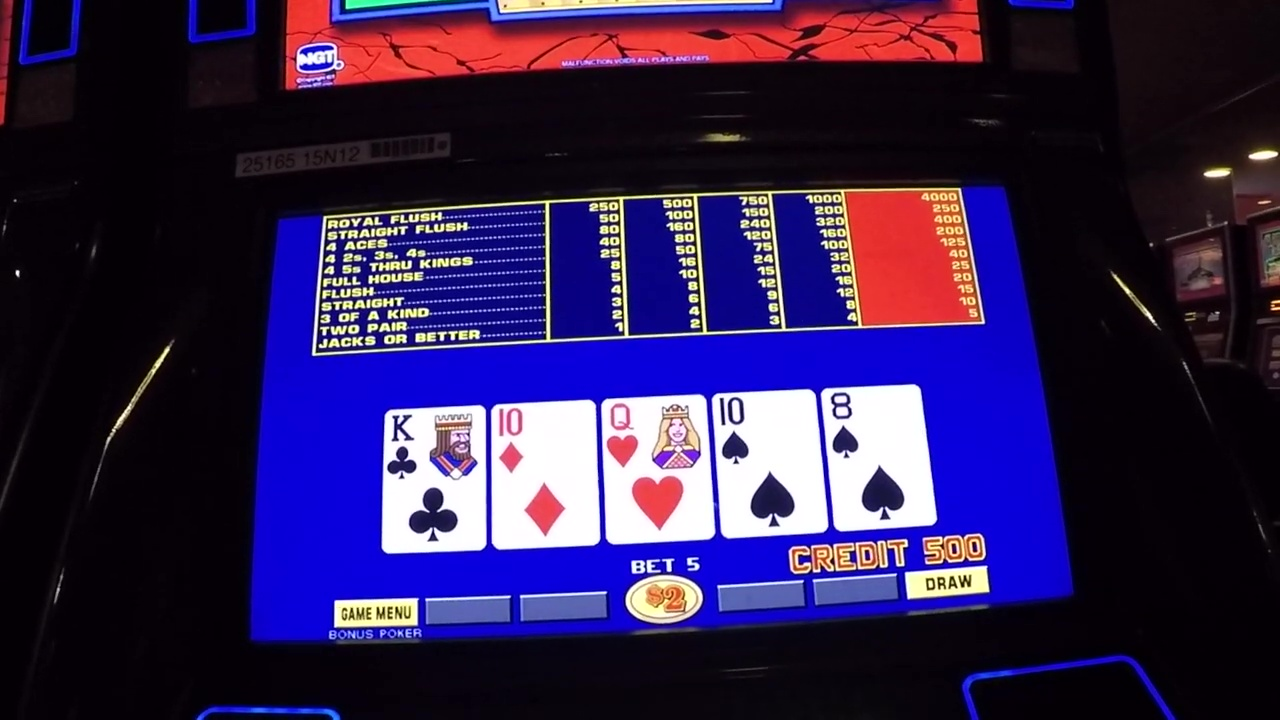CK: (388, 410, 484, 476)
DT: (493, 407, 593, 477)
HQ: (605, 400, 703, 472)
S8: (828, 391, 920, 462)
ST: (721, 394, 813, 468)
